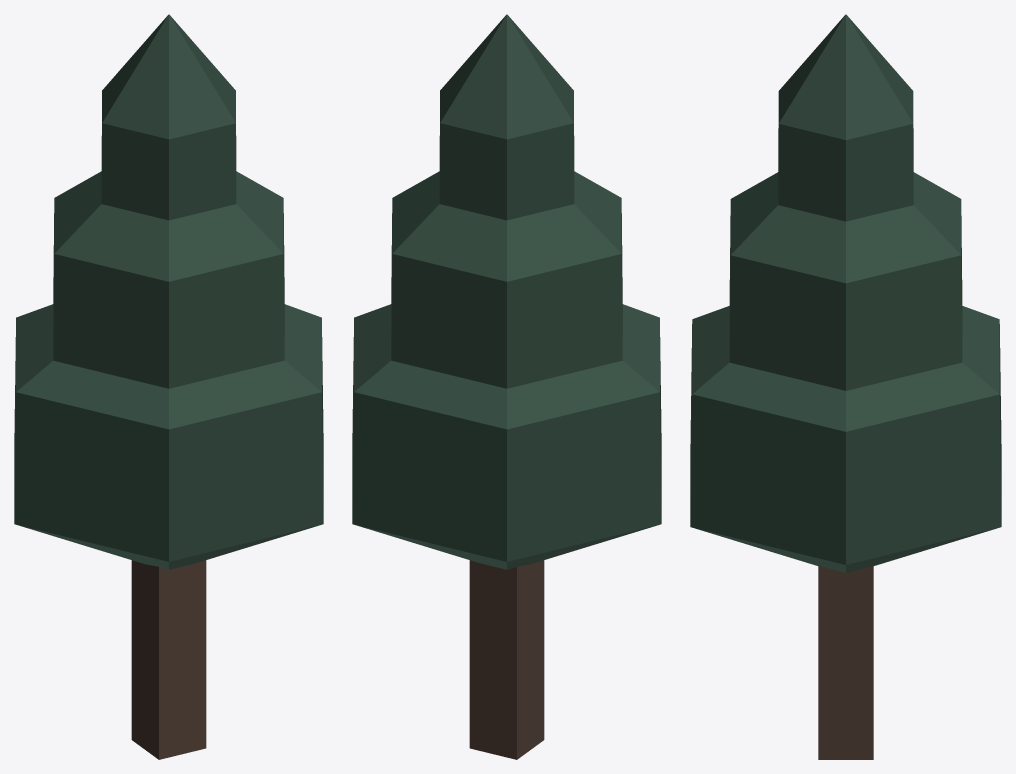
Rendered from conifer.glb.
The picture shows the model from 3 angles, left to right: view 1: azimuth 30°, elevation 25°; view 2: azimuth 150°, elevation 25°; view 3: azimuth 270°, elevation 25°; orthographic projection.
Visible parts, largest first — view 1: conifer; view 2: conifer; view 3: conifer.
Boxes of the visible parts, x1,y1,x2,y2 form: conifer: [14, 14, 323, 759]; conifer: [352, 14, 661, 759]; conifer: [690, 14, 1001, 759].
Size of the model in its own units: 1.63 by 3.68 by 1.41.
